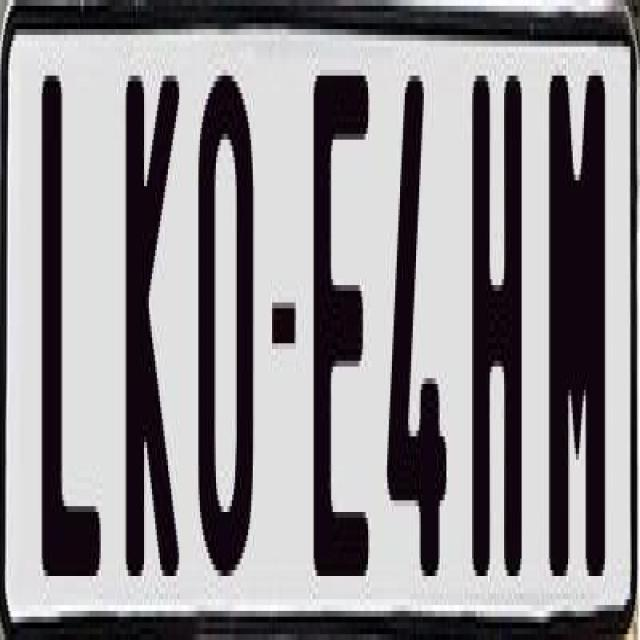0: (198, 76, 253, 576)
4: (384, 70, 446, 570)
E: (310, 70, 370, 594)
H: (472, 58, 523, 564)
K: (121, 76, 182, 594)
L: (38, 64, 104, 576)
M: (546, 76, 604, 576)
